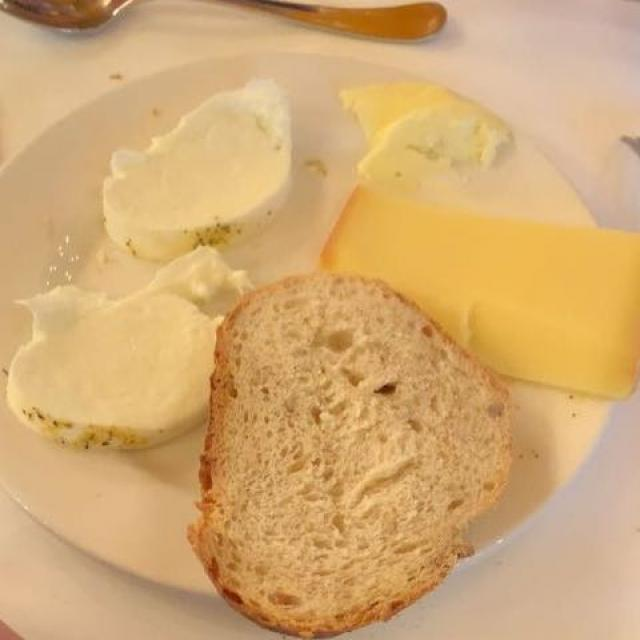bread: (202, 261, 532, 628)
butter: (332, 81, 510, 176)
cheese: (10, 71, 308, 448), (313, 171, 638, 395)
